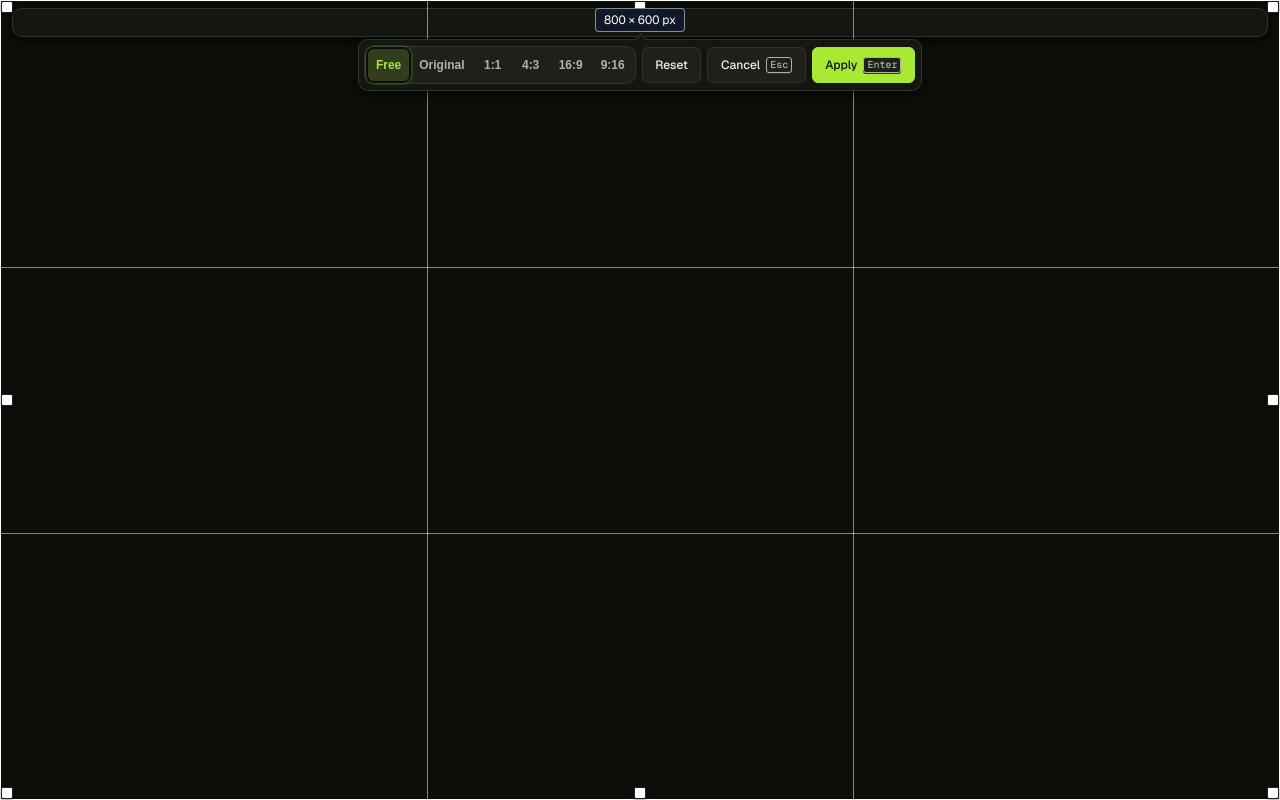
Test: crop overlay › shows eight handles, source size and aspect constraints, and reset restores the full image
Expected: the text "800 × 600 px" is shown, 595,8 -> 685,32
Click the button "1:1".
click(493, 65)  # box 475,49 -> 511,81
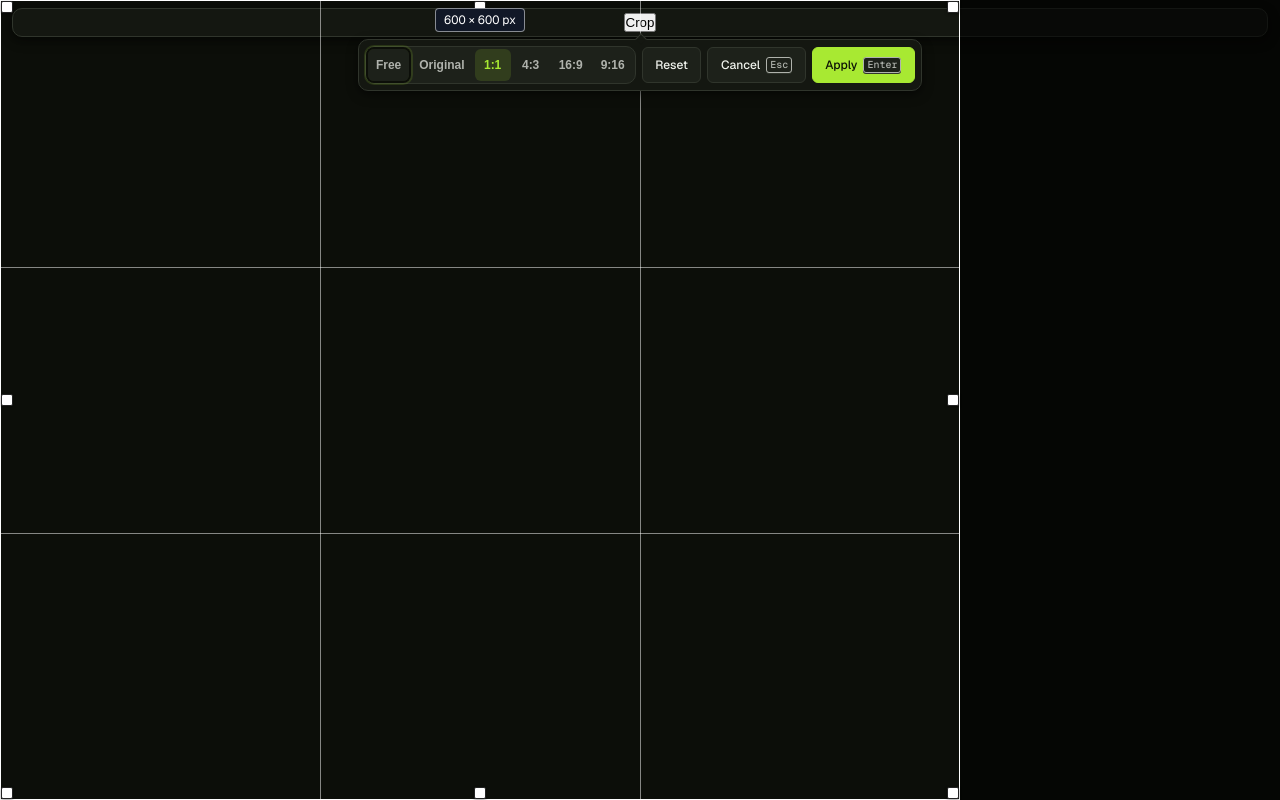
Now the text "600 × 600 px" is shown, box 435,8 -> 525,32
Click the button "Reset".
click(672, 65)  # box 642,47 -> 702,83
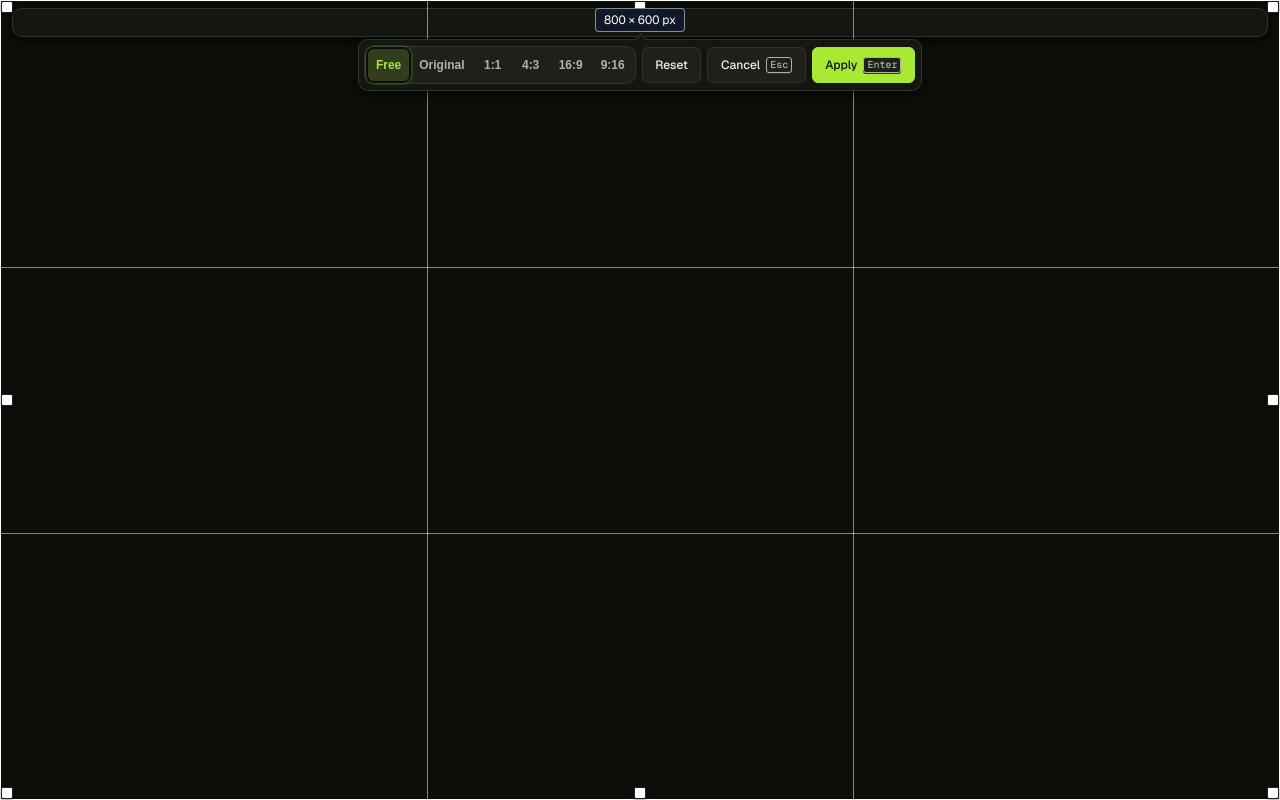
Expected: the button "Free" is shown, 368,49 -> 409,81
Now the text "800 × 600 px" is shown, box 595,8 -> 685,32
